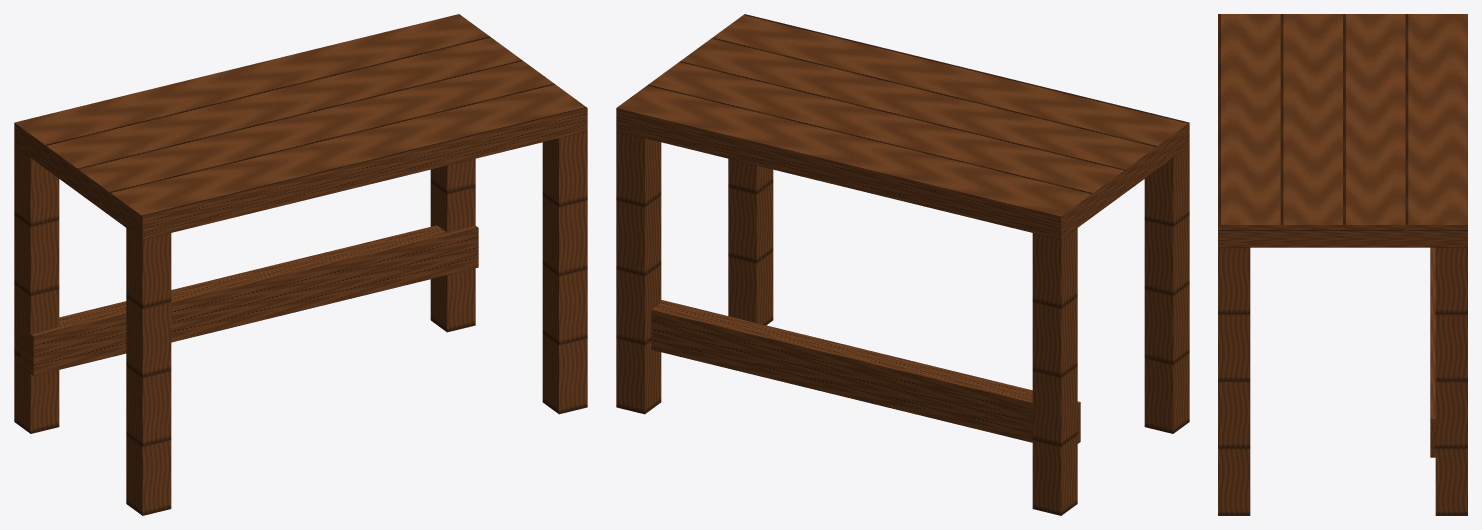
Rendered from suburban-outbreak-interiors-kitchen-open-island-5fd46f2f__19904.glb.
The picture shows the model from 3 angles, left to right: view 1: azimuth 30°, elevation 25°; view 2: azimuth 150°, elevation 25°; view 3: azimuth 270°, elevation 25°; orthographic projection. The views are drawn at different scales.
Visible parts, largest first — view 1: kitchen-open-island; view 2: kitchen-open-island; view 3: kitchen-open-island.
Part boxes in pixels (box(x1,y1,x2,y2)): kitchen-open-island: box(14, 14, 587, 515); kitchen-open-island: box(616, 14, 1189, 515); kitchen-open-island: box(1218, 14, 1467, 515).
Bounding box in the file's own units: 1.4 × 0.9001 × 0.7001.
1 material, 1 textured.
